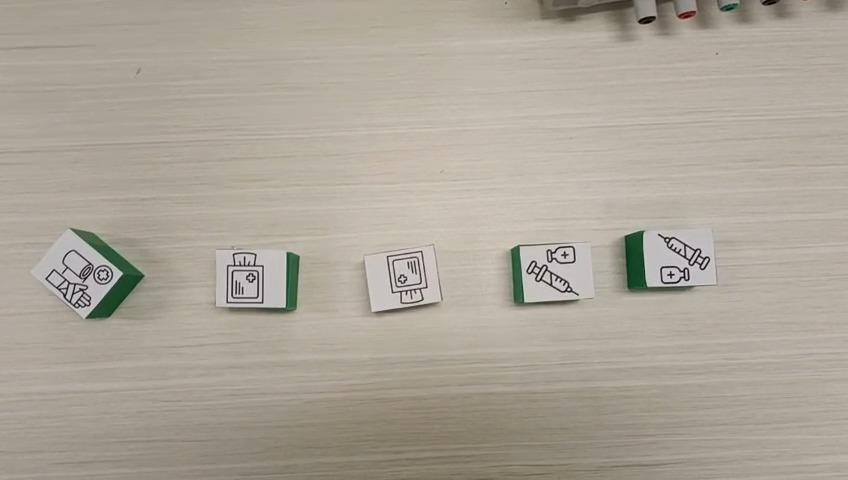Bandages: (28, 226, 144, 319)
Gauze: (362, 243, 444, 313), (214, 247, 299, 310)
antiseptic cream: (623, 225, 718, 290), (509, 241, 594, 304)
